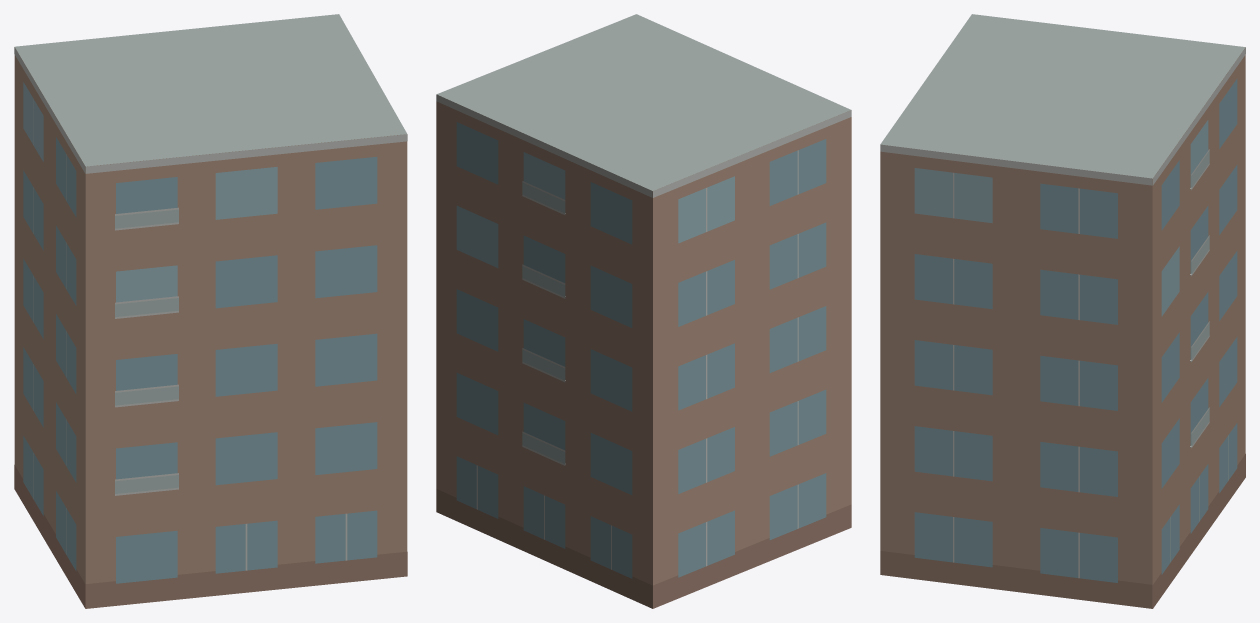
The model's file is survey-upis-32876130.glb.
3 views of the same model, side by side, from view 1: azimuth 30°, elevation 25°; view 2: azimuth 150°, elevation 25°; view 3: azimuth 270°, elevation 25° (orthographic). The views are drawn at different scales.
Parts seen in each view (by area): view 1: survey-upis-32876130.tmp; view 2: survey-upis-32876130.tmp; view 3: survey-upis-32876130.tmp.
Part boxes in pixels (<box>): survey-upis-32876130.tmp: <box>14,14,407,608</box>; survey-upis-32876130.tmp: <box>436,14,851,608</box>; survey-upis-32876130.tmp: <box>880,14,1245,608</box>.
Size of the model in its own units: 12.1 by 14.75 by 11.37.
